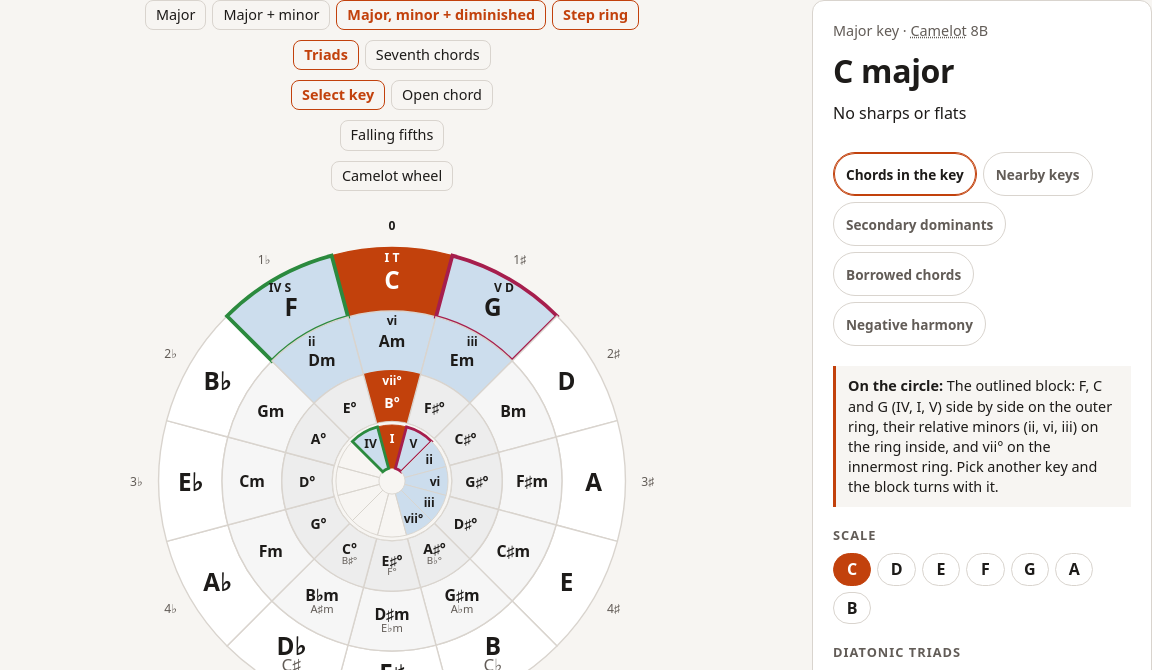
Camelot wheel › outlines the three neighbours of C major and names them
Click the button "Camelot wheel" at [392, 176], box [331,161,453,191]
(page scrolled)
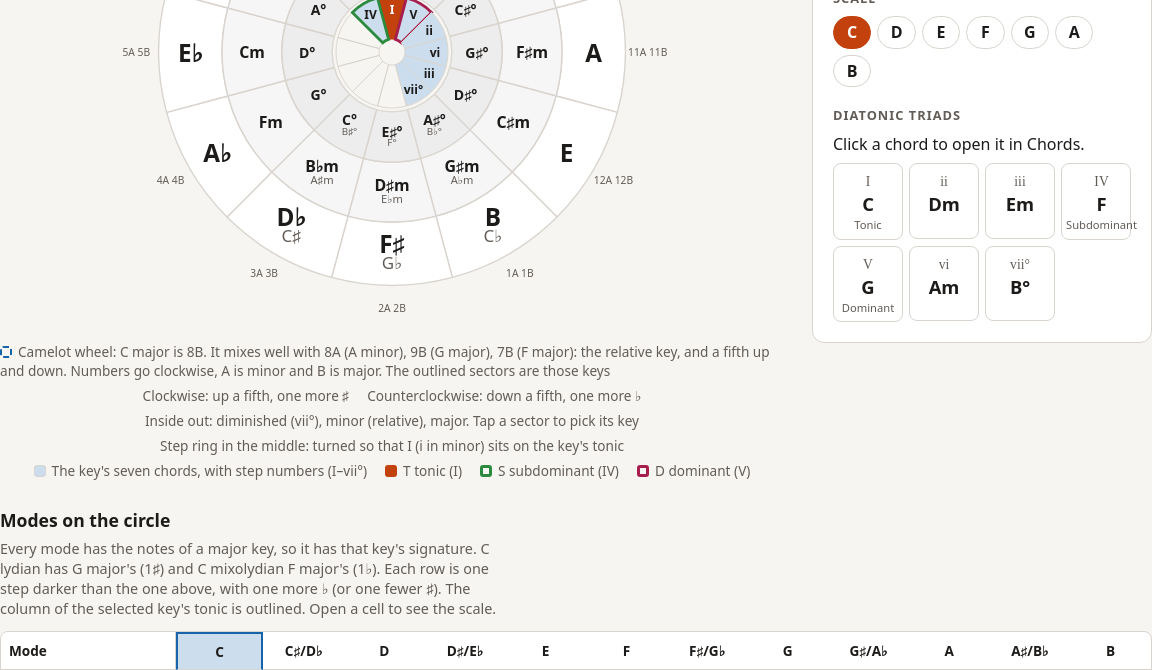
Now the text with class "legend--camelot" shows "C major is 8B", box [0,342,784,380]
Now the text with class "legend--camelot" shows "8A (A minor)", box [324,342,574,361]
Now the text with class "legend--camelot" shows "9B (G major)", box [324,342,574,361]
